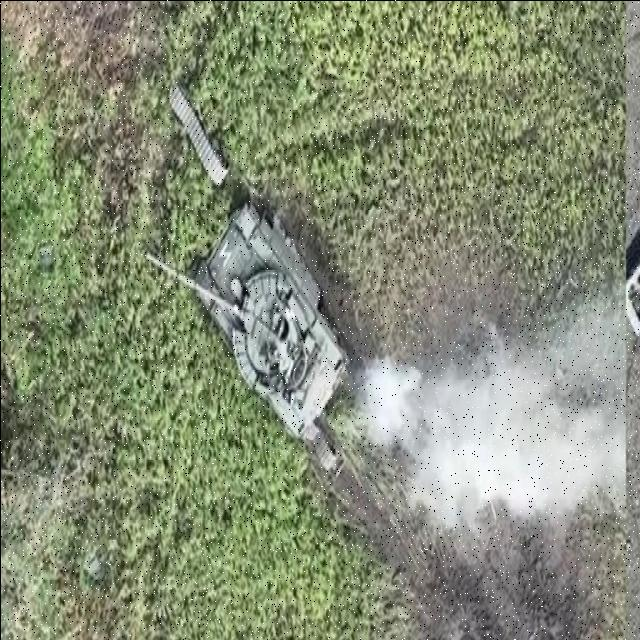TANK: (138, 180, 348, 449)
